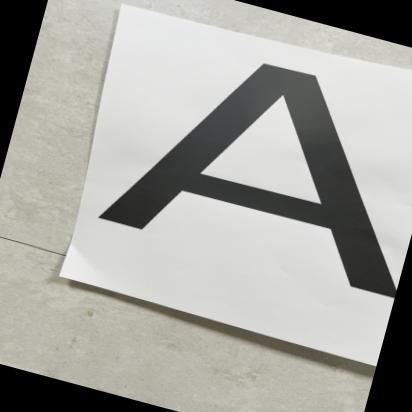seat: (94, 24, 412, 306)
